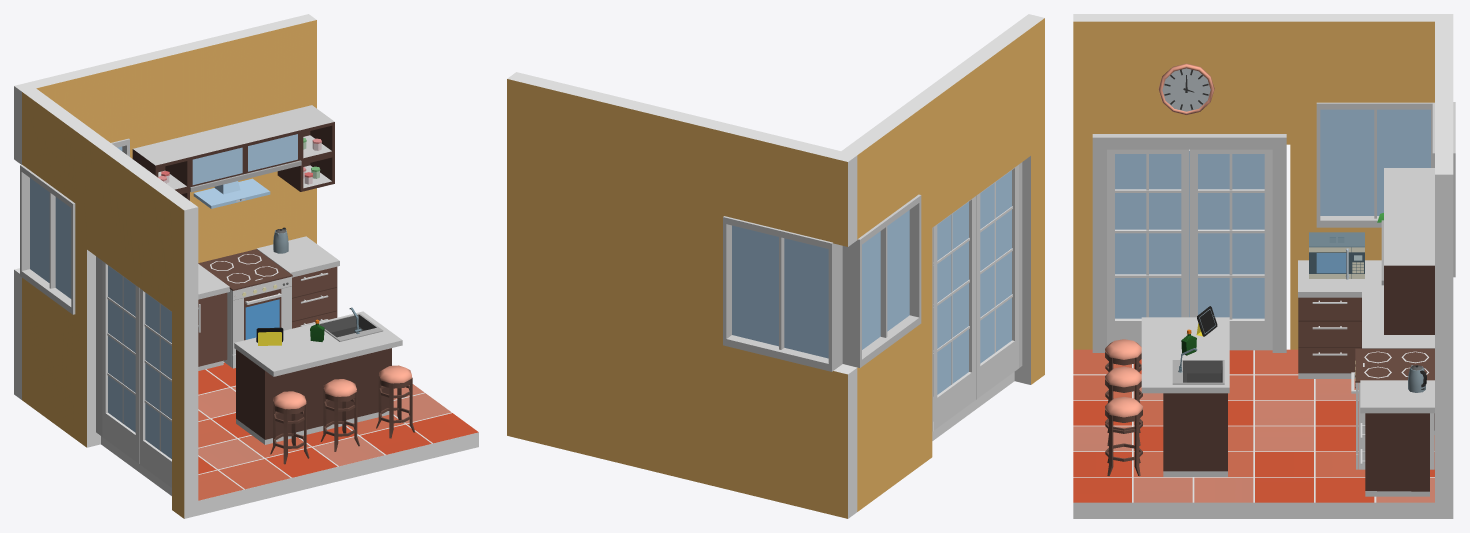
Rendered from room_10.glb.
3 renders of one model, left to right at view 1: azimuth 30°, elevation 25°; view 2: azimuth 150°, elevation 25°; view 3: azimuth 270°, elevation 25°, orthographic. The views are drawn at different scales.
Parts seen in each view (by area): view 1: Walls_010.003, floor_019.001, kitchen_item_045.001, door_028.002, kitchen_item_046.001, Walls_010.008, Walls_010.002, Walls_010.005, window_029.002, Walls_006.007, Walls_010.007, kitchen_item_028.001 (+10 smaller); view 2: Walls_010.003, Walls_010.001, door_028.002, window_029.001, Walls_010.008, Walls_010.004, window_029.002, Walls_010.005, Walls_010.002, Walls_010.006, Walls_010.007, door_027.002 (+1 smaller); view 3: door_028.002, floor_019.001, Walls_010.008, window_029.002, kitchen_item_045.001, Walls_010.006, door_027.002, kitchen_item_046.001, Walls_010.003, Walls_006.007, kitchen_item_050.001, Walls_010.002 (+14 smaller).
Boxes of the visible parts, <box> form: Walls_010.003: <box>119,14,316,262</box>; floor_019.001: <box>198,362,478,500</box>; kitchen_item_045.001: <box>234,307,402,444</box>; door_028.002: <box>102,261,171,487</box>; kitchen_item_046.001: <box>132,105,334,200</box>; Walls_010.008: <box>87,136,185,311</box>; Walls_010.002: <box>172,198,198,518</box>; Walls_010.005: <box>22,278,74,438</box>; window_029.002: <box>20,164,75,314</box>; Walls_006.007: <box>101,362,478,515</box>; Walls_010.007: <box>74,127,100,447</box>; kitchen_item_028.001: <box>198,249,292,368</box>; Walls_010.003: <box>507,72,735,488</box>; Walls_010.001: <box>726,346,857,518</box>; door_028.002: <box>933,164,1018,430</box>; window_029.001: <box>723,216,842,371</box>; Walls_010.008: <box>916,24,1030,227</box>; Walls_010.004: <box>726,125,857,246</box>; window_029.002: <box>842,194,921,367</box>; Walls_010.005: <box>843,326,918,511</box>; Walls_010.002: <box>1014,14,1044,384</box>; Walls_010.006: <box>841,106,918,239</box>; Walls_010.007: <box>902,96,932,467</box>; door_027.002: <box>932,162,1022,431</box>; door_028.002: <box>1107,149,1272,350</box>; floor_019.001: <box>1073,349,1434,502</box>; Walls_010.008: <box>1100,14,1290,144</box>; window_029.002: <box>1316,102,1434,227</box>; kitchen_item_045.001: <box>1141,317,1229,476</box>; Walls_010.006: <box>1317,14,1434,102</box>; door_027.002: <box>1092,134,1286,352</box>; kitchen_item_046.001: <box>1381,168,1434,334</box>; Walls_010.003: <box>1435,71,1453,518</box>; Walls_006.007: <box>1073,350,1434,518</box>; kitchen_item_050.001: <box>1360,380,1434,496</box>; Walls_010.002: <box>1073,14,1100,349</box>.
Size of the model in its own units: 4.23 by 4.2 by 4.23.
1 material, 1 textured.
